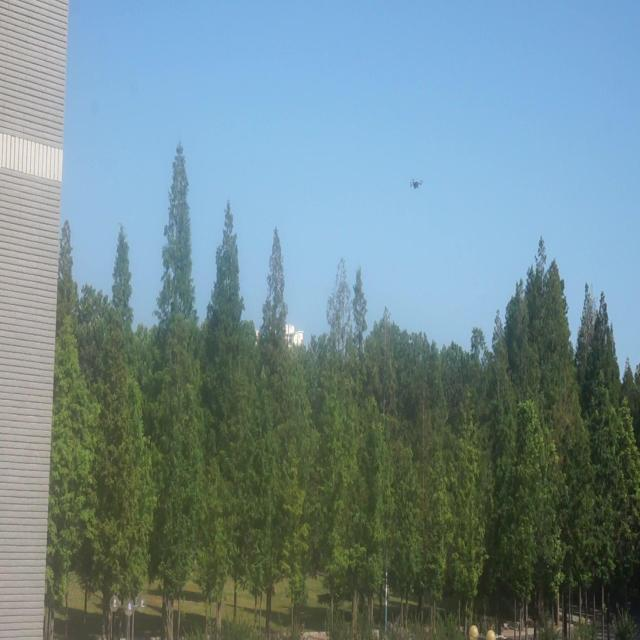drone: (409, 176, 423, 192)
